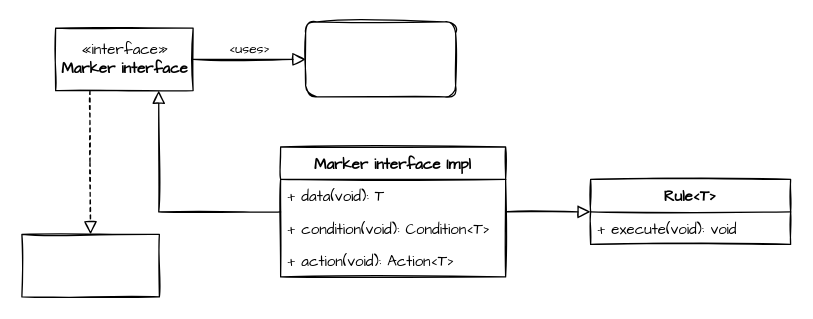
Some shapes in this 813 by 319 pixel diagram are drawn without their labels. The shapes that lost their labels are listed below. From the top down, each one's centre as x and y in pixels, then its label:
At point (380, 59): "@Rule Marked entity".
At point (90, 265): "«interface» Executable".
